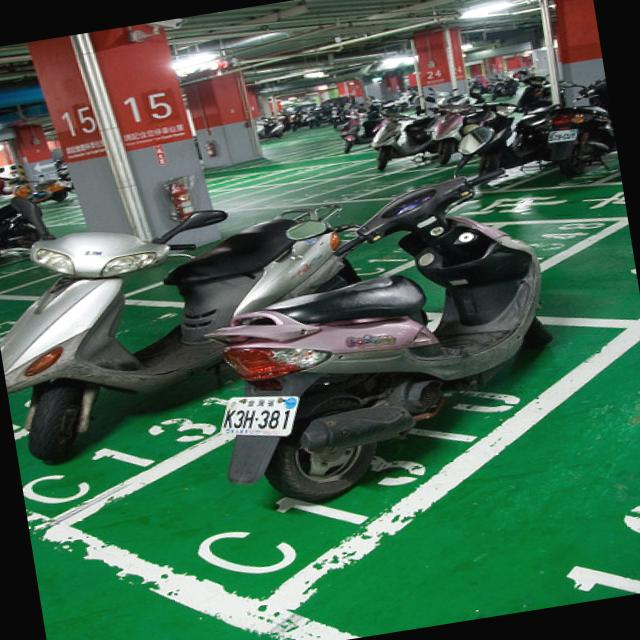Vehicle: (177, 121, 574, 516), (0, 186, 369, 471), (529, 58, 620, 180), (420, 86, 510, 166), (367, 104, 448, 172), (0, 190, 60, 266), (7, 170, 74, 210), (335, 106, 386, 154), (365, 94, 404, 122), (328, 102, 362, 130)
